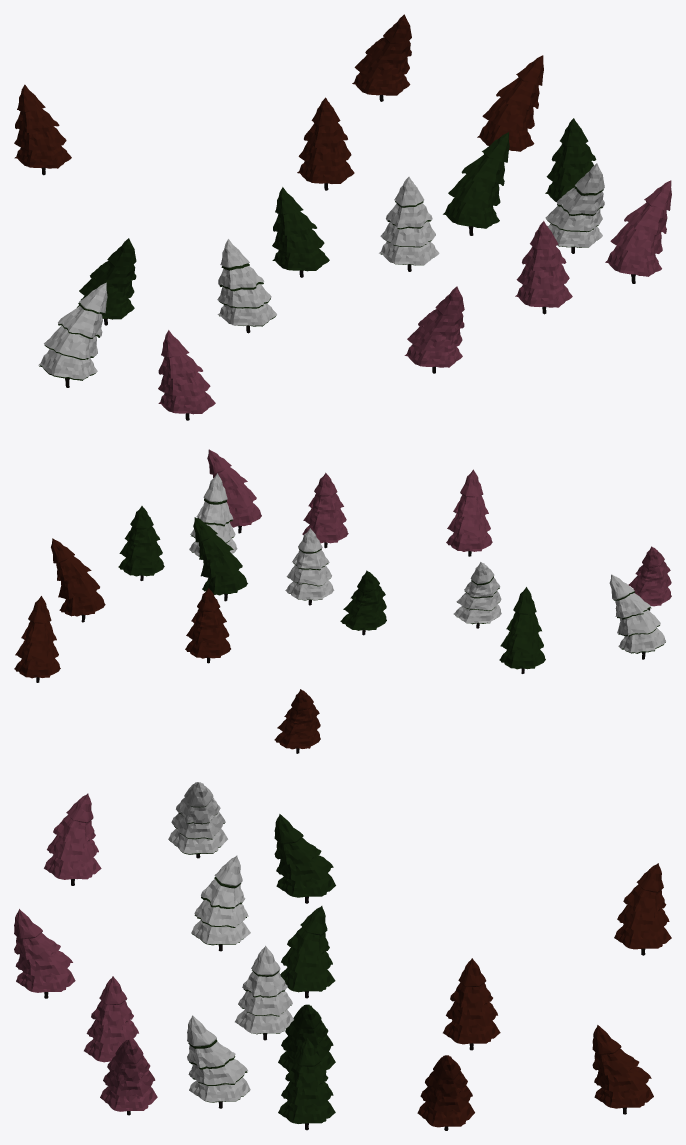
The model's file is tree1.obj.
3 views of the same model, one above another, from view 1: azimuth 30°, elevation 25°; view 2: azimuth 150°, elevation 25°; view 3: azimuth 270°, elevation 25° (orthographic). The views are drawn at different scales.
Visible parts, largest first — view 1: Circle.006, Circle.014, Circle.001, Circle.007, Circle.010, Circle.004, Circle.005, Circle.011, Circle.015, Circle.009, Circle.013, Circle.012 (+4 smaller); view 2: Circle.006, Circle.010, Circle.001, Circle.002, Circle.009, Circle.013, Circle.007, Circle, Circle.011, Circle.004, Circle.015, Circle.014 (+4 smaller); view 3: Circle.005, Circle.004, Circle.007, Circle.009, Circle.002, Circle.013, Circle.012, Circle.008, Circle.003, Circle.011, Circle, Circle.006 (+4 smaller).
Boxes of the visible parts, x1,y1,x2,y2 form: Circle.006: (38, 282, 107, 387); Circle.014: (605, 180, 671, 283); Circle.001: (443, 132, 509, 235); Circle.007: (379, 176, 439, 271); Circle.010: (477, 55, 543, 151); Circle.004: (217, 239, 276, 333); Circle.005: (545, 163, 604, 253); Circle.011: (297, 97, 354, 190); Circle.015: (515, 221, 572, 314); Circle.009: (352, 14, 411, 101); Circle.013: (404, 286, 464, 373); Circle.012: (158, 330, 215, 420); Circle.006: (609, 574, 665, 659); Circle.010: (51, 538, 105, 622); Circle.001: (193, 517, 247, 601); Circle.002: (499, 587, 545, 673); Circle.009: (14, 596, 60, 682); Circle.013: (446, 469, 492, 556); Circle.007: (285, 528, 334, 605); Circle: (118, 506, 164, 580); Circle.011: (185, 588, 230, 663); Circle.004: (453, 562, 501, 628); Circle.015: (302, 472, 348, 548); Circle.014: (207, 449, 261, 533); Circle.005: (187, 1015, 250, 1108); Circle.004: (191, 855, 250, 951); Circle.007: (235, 945, 293, 1040); Circle.009: (592, 1025, 653, 1114); Circle.002: (274, 814, 335, 903); Circle.013: (14, 909, 75, 998); Circle.012: (44, 793, 101, 885); Circle.008: (614, 863, 671, 955); Circle.003: (280, 906, 335, 998); Circle.011: (443, 958, 500, 1050); Circle: (278, 1037, 335, 1130); Circle.006: (168, 782, 227, 858).
Bounding box in the file's own units: 23.81 × 3.59 × 21.95.
